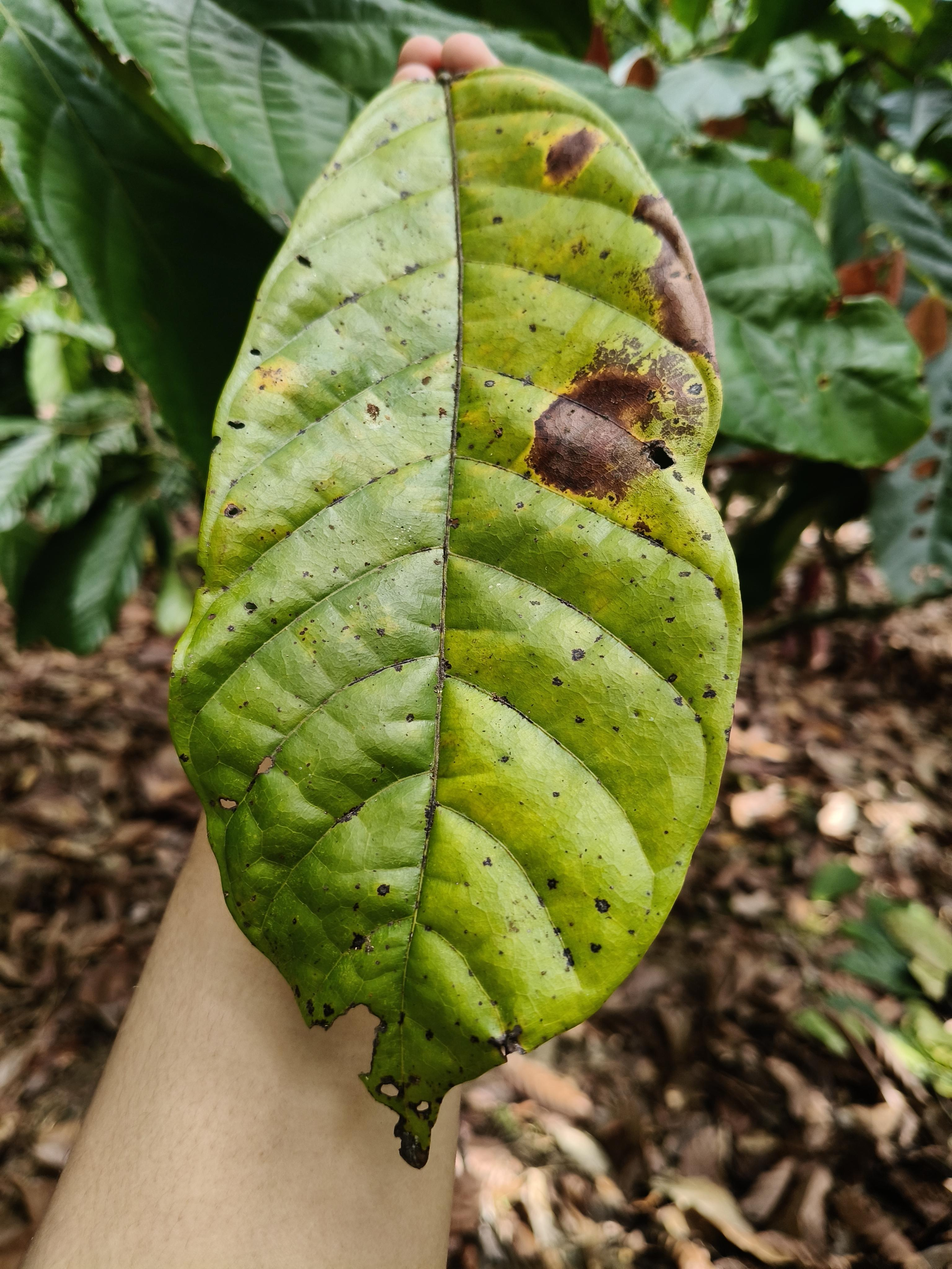deficiencia_potasio: (155, 41, 748, 1176)
